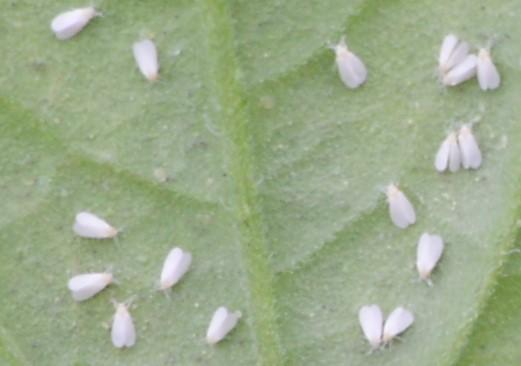Tobacco Whitefly: (324, 28, 381, 107), (61, 203, 134, 256), (382, 168, 426, 235), (340, 290, 381, 351), (157, 236, 190, 303), (48, 7, 110, 38), (214, 307, 247, 362), (108, 290, 138, 345), (414, 231, 441, 281)
